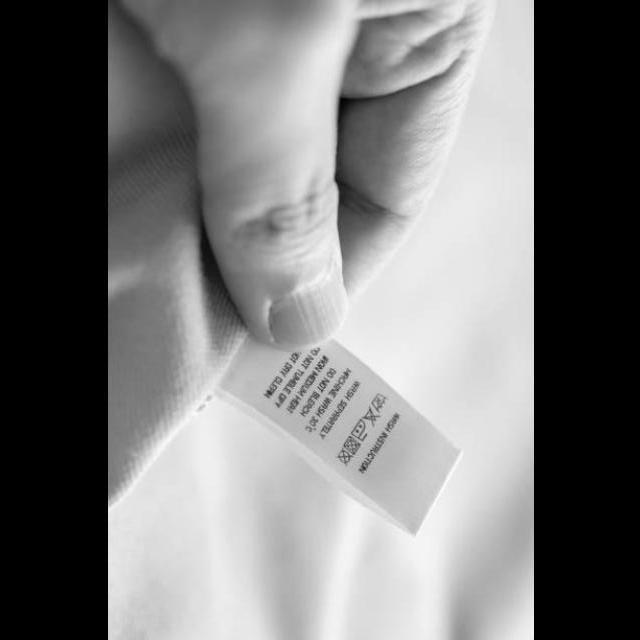30C: (368, 391, 388, 414)
DN_bleach: (360, 406, 380, 428)
DN_dry_clean: (333, 446, 353, 466)
DN_tumble_dry: (341, 434, 362, 456)
iron_medium: (348, 416, 368, 444)
